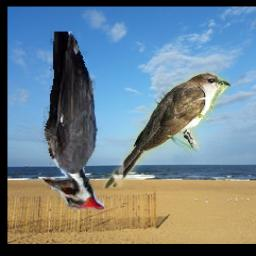Cuckoo: (103, 73, 231, 189)
Woodpecker: (38, 32, 104, 210)
